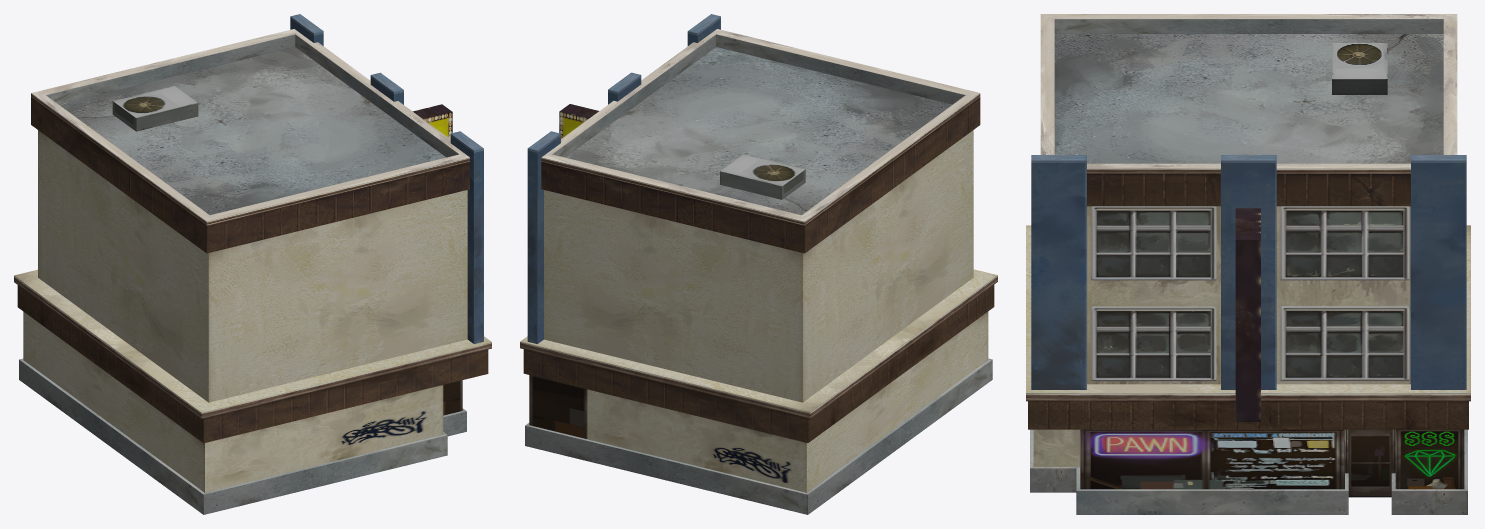
The model's file is Pawn_Shop.fbx.
3 views of the same model, side by side, from view 1: azimuth 30°, elevation 25°; view 2: azimuth 150°, elevation 25°; view 3: azimuth 270°, elevation 25° (orthographic). The views are drawn at different scales.
Parts seen in each view (by area): view 1: Pawn_Shop; view 2: Pawn_Shop; view 3: Pawn_Shop.
Part boxes in pixels (bbox=[...]): Pawn_Shop: bbox=[14, 14, 491, 514]; Pawn_Shop: bbox=[520, 14, 997, 514]; Pawn_Shop: bbox=[1026, 14, 1470, 514].
Size of the model in its own units: 369 by 309 by 353.
Materials: 2 (2 with a texture image).
